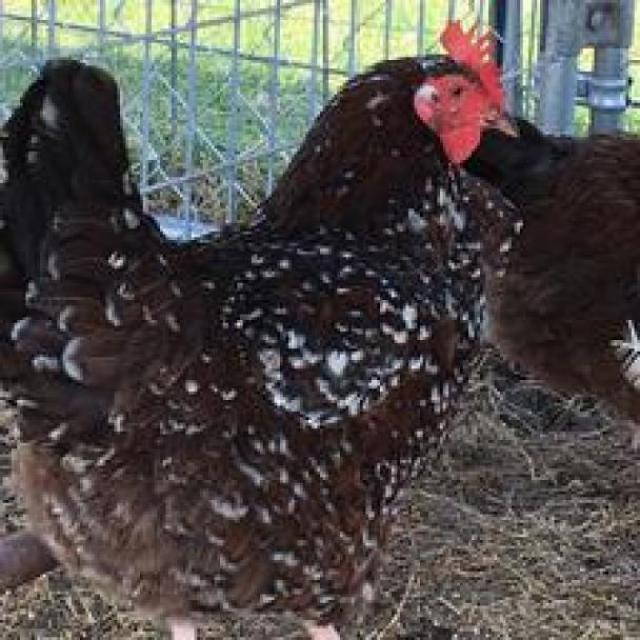Chicken: (9, 32, 547, 640)
